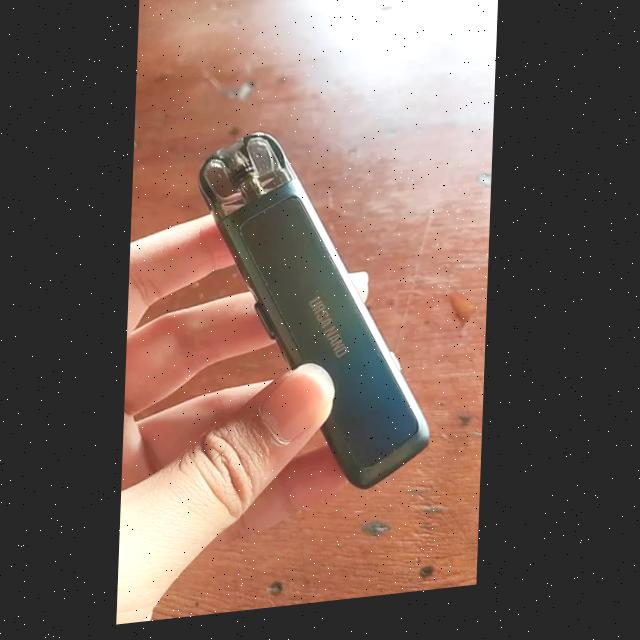vape: (192, 119, 444, 515)
